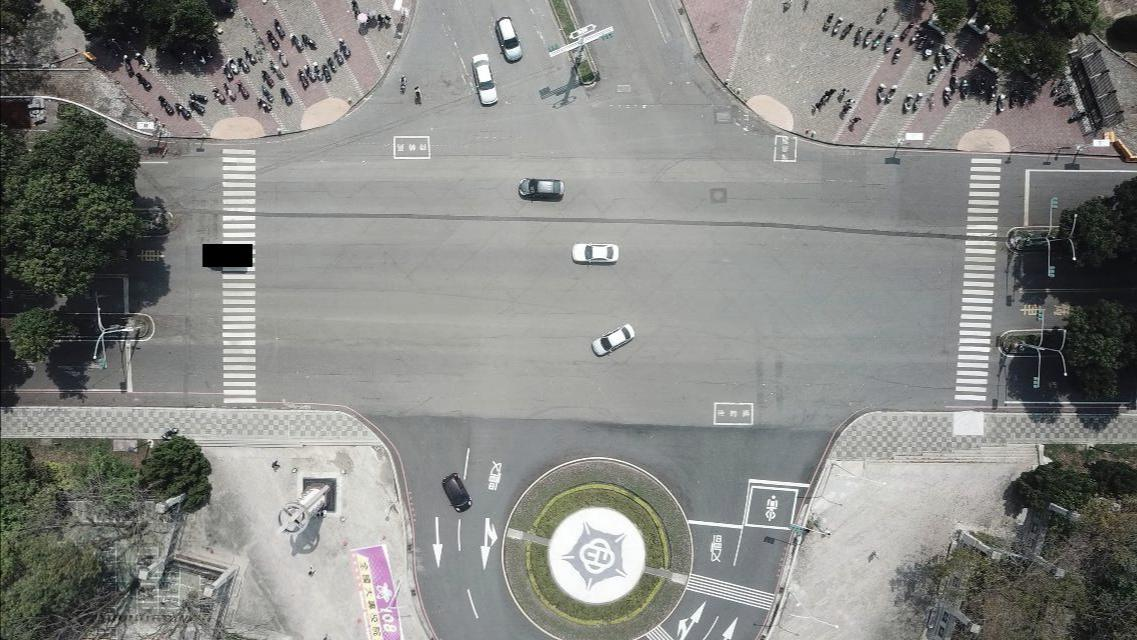vehicle: (491, 14, 524, 64), (468, 53, 499, 106), (590, 323, 636, 358), (442, 472, 474, 514), (571, 242, 621, 267), (518, 177, 566, 201)
